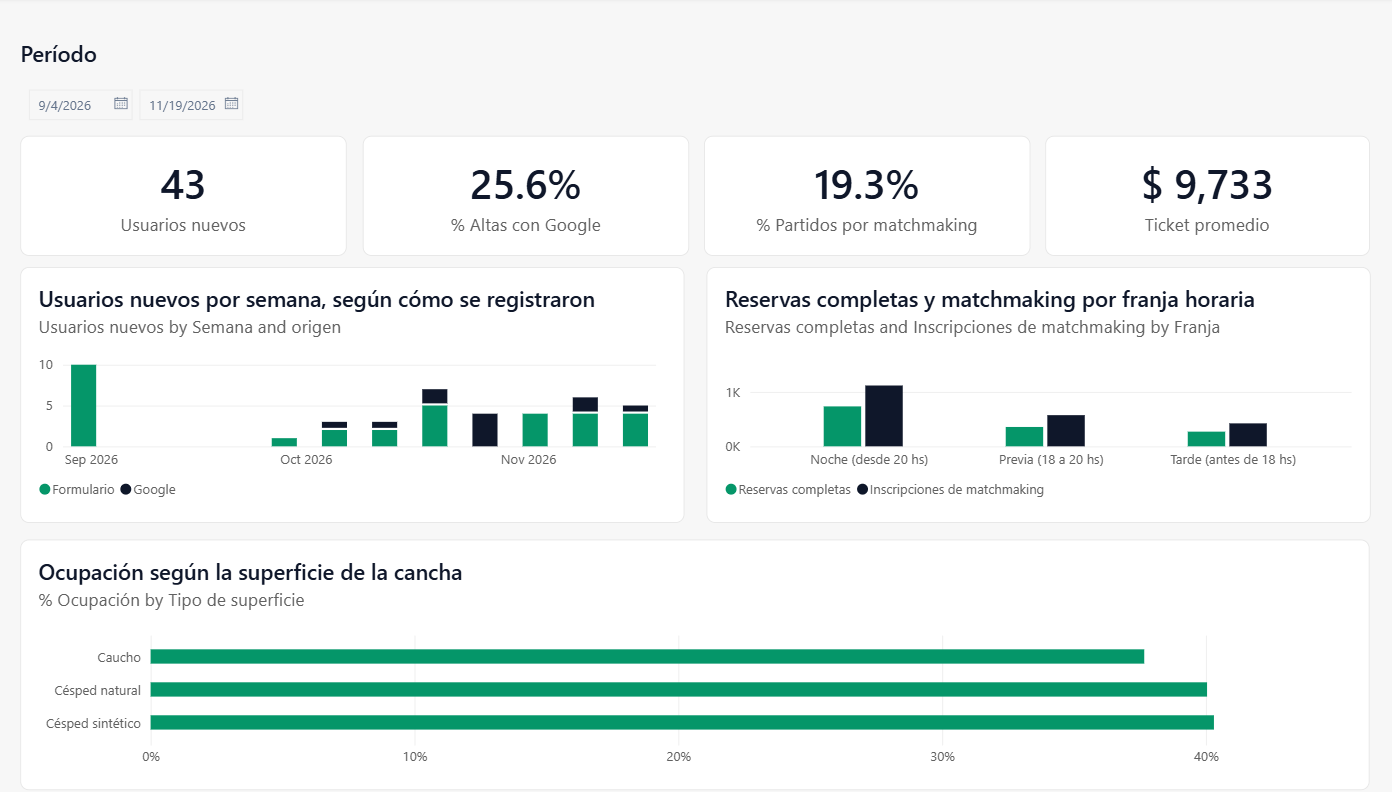

The dashboard page shown, as its layout file describes it:
{"tool":"powerbi","page":{"name":"Jugadores y matchmaking","canvas":[1280,720],"ordinal":1},"visuals":[{"type":"slicer","title":"Período","fields":{"Values":["Calendario.Date"]},"box":[20,15,420,80],"z":0},{"type":"card","fields":{"Values":["bi_usuarios.Usuarios nuevos"]},"box":[20,105,300,110],"z":1000},{"type":"card","fields":{"Values":["bi_usuarios.% Altas con Google"]},"box":[334,105,300,110],"z":2000},{"type":"card","fields":{"Values":["bi_reservas.% Partidos por matchmaking"]},"box":[648,105,300,110],"z":3000},{"type":"card","fields":{"Values":["bi_reservas.Ticket promedio"]},"box":[962,105,298,110],"z":4000},{"type":"columnChart","title":"Usuarios nuevos por semana, según cómo se registraron","fields":{"Category":["Calendario.Semana"],"Series":["bi_usuarios.origen"],"Y":["bi_usuarios.Usuarios nuevos"]},"box":[20,225,610,235],"z":5000},{"type":"clusteredColumnChart","title":"Reservas completas y matchmaking por franja horaria","fields":{"Category":["bi_turnos.Franja"],"Y":["bi_reservas.Reservas completas","bi_reservas.Inscripciones de matchmaking"]},"box":[650,225,610,235],"z":6000},{"type":"clusteredBarChart","title":"Ocupación según la superficie de la cancha","fields":{"Category":["bi_turnos.Tipo de superficie"],"Y":["bi_turnos.% Ocupación"]},"box":[20,475,1240,230],"z":7000}]}

Visuals, with their boxes in screenshot pixels (x1, y1, x2, y2), scaled from the page's 1280x720 canvas onto the 1392x792 screenshot:
"Período" slicer: [22, 16, 478, 105]
card - bi_usuarios.Usuarios nuevos: [22, 116, 348, 237]
card - bi_usuarios.% Altas con Google: [363, 116, 689, 237]
card - bi_reservas.% Partidos por matchmaking: [705, 116, 1031, 237]
card - bi_reservas.Ticket promedio: [1046, 116, 1370, 237]
"Usuarios nuevos por semana, según cómo se registraron" columnChart: [22, 248, 685, 506]
"Reservas completas y matchmaking por franja horaria" clusteredColumnChart: [707, 248, 1370, 506]
"Ocupación según la superficie de la cancha" clusteredBarChart: [22, 522, 1370, 776]
